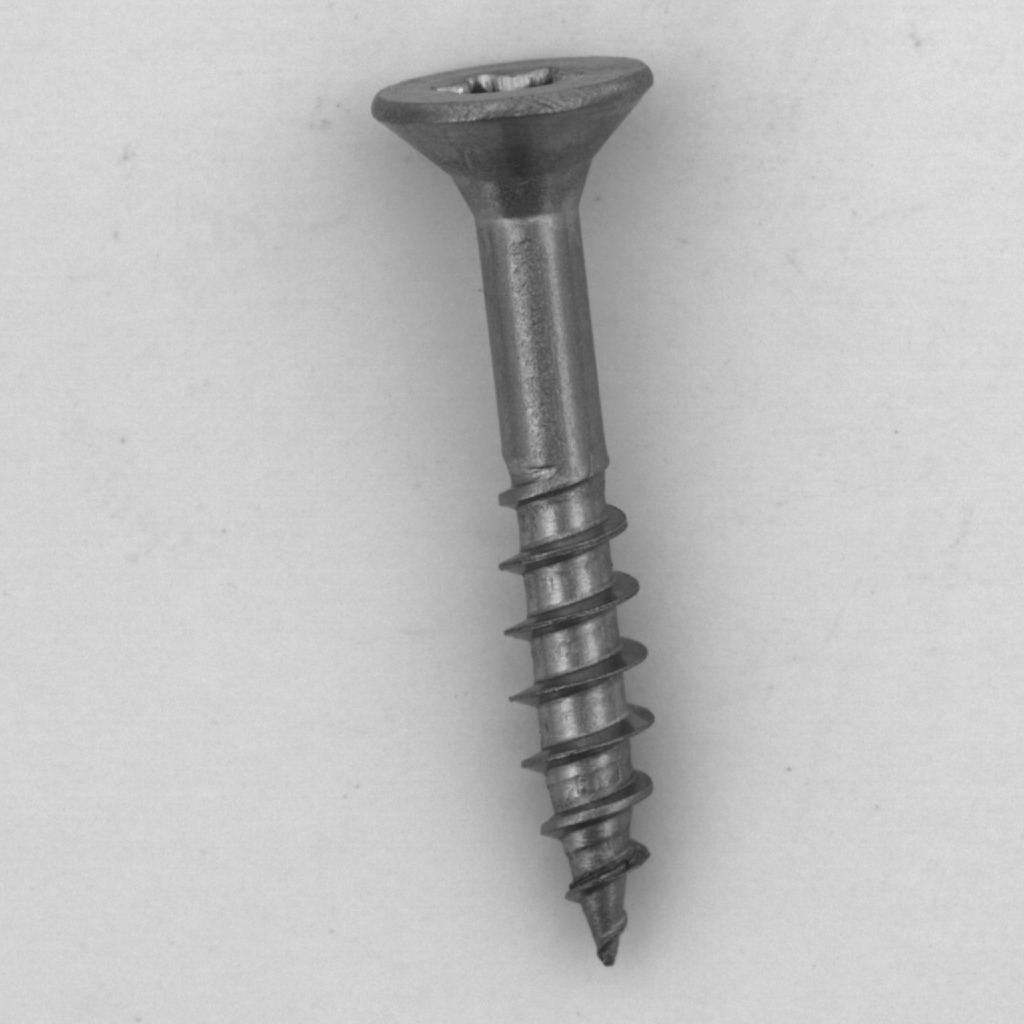good: (366, 34, 681, 996)
